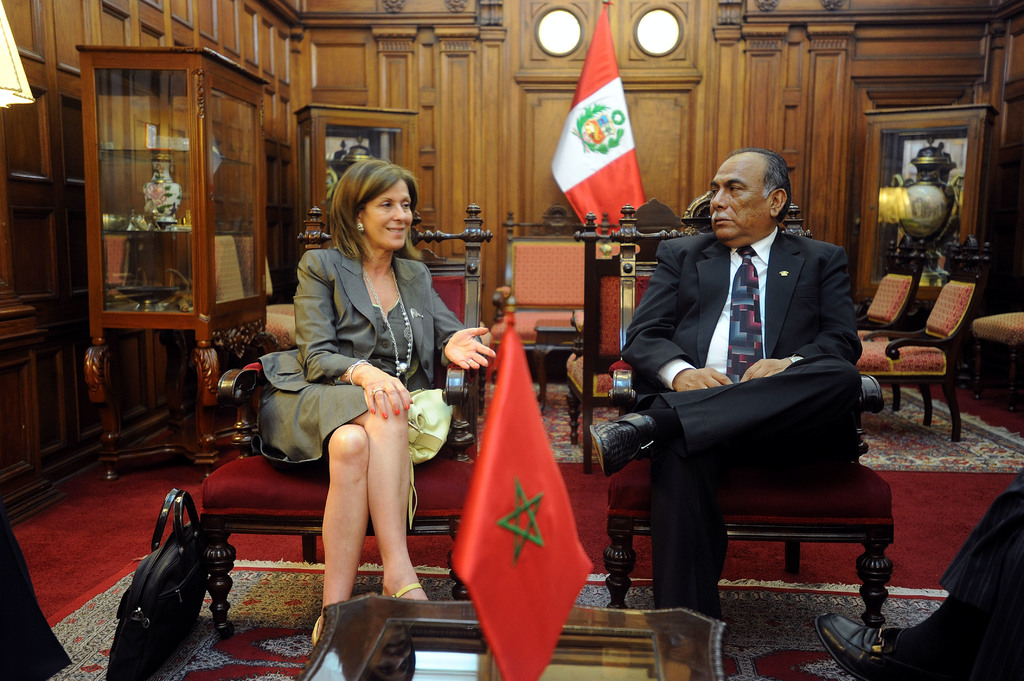Human_hand: (427, 328, 504, 380), (356, 369, 415, 419), (675, 368, 734, 394), (740, 356, 794, 383)
